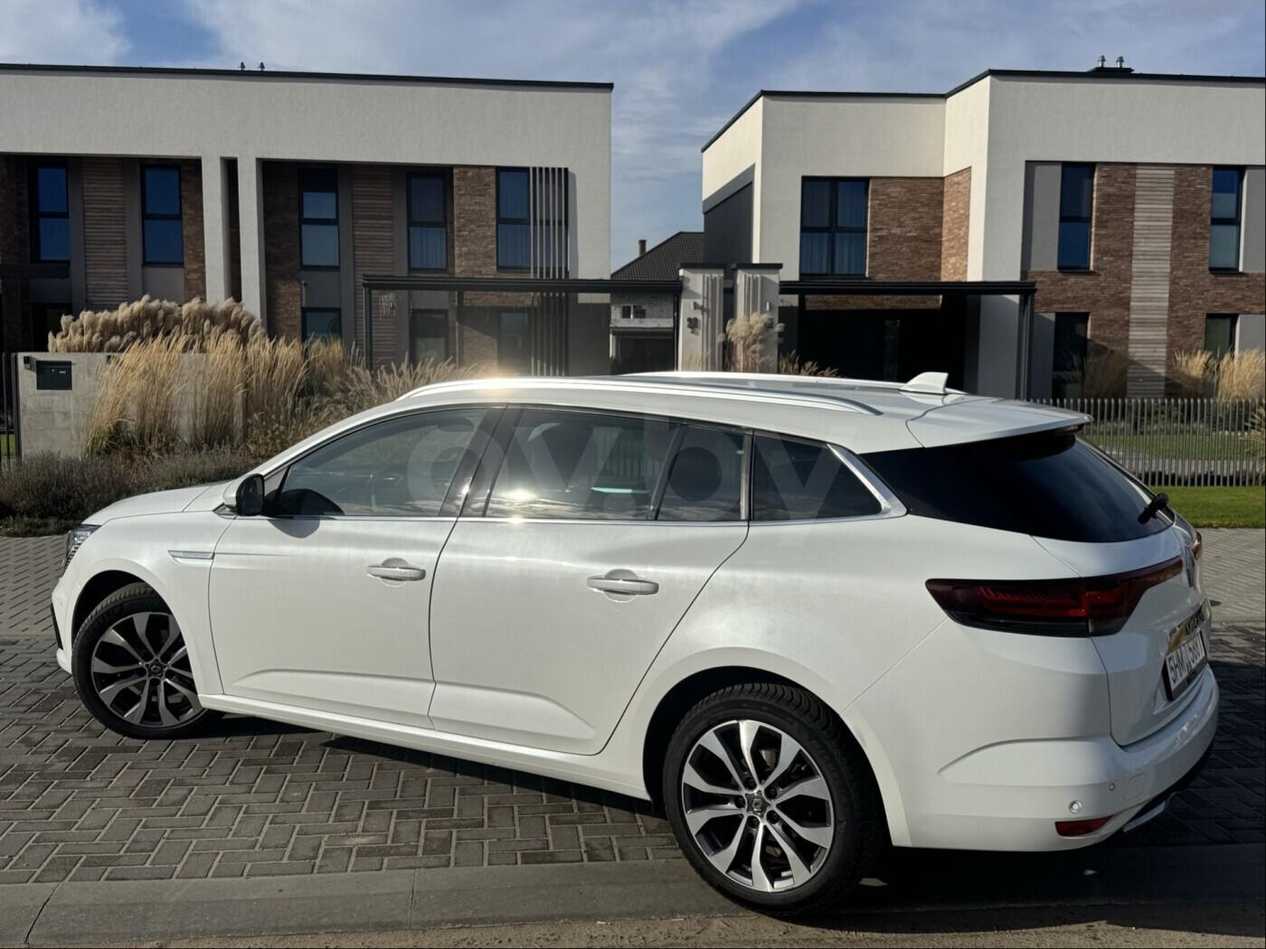Megane_2020: (53, 362, 1230, 899)
